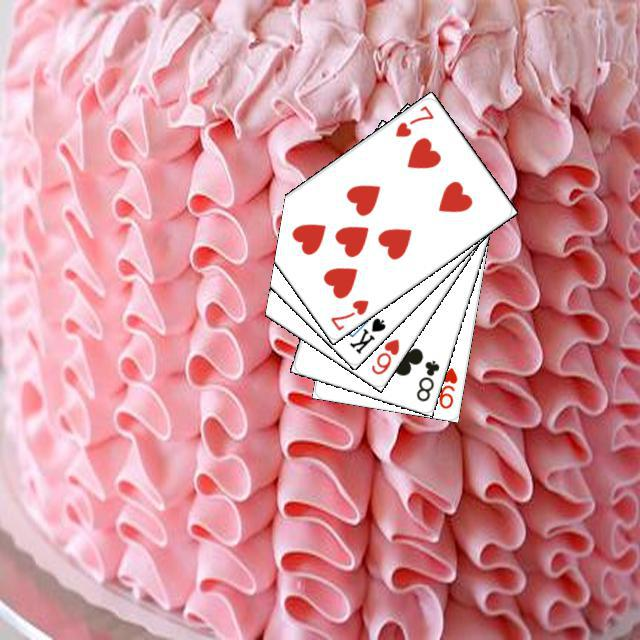6h: (366, 334, 401, 377)
7h: (390, 100, 436, 139), (325, 295, 370, 333)
8c: (411, 355, 441, 403)
9h: (434, 362, 459, 410)
Ks: (344, 313, 387, 356)
